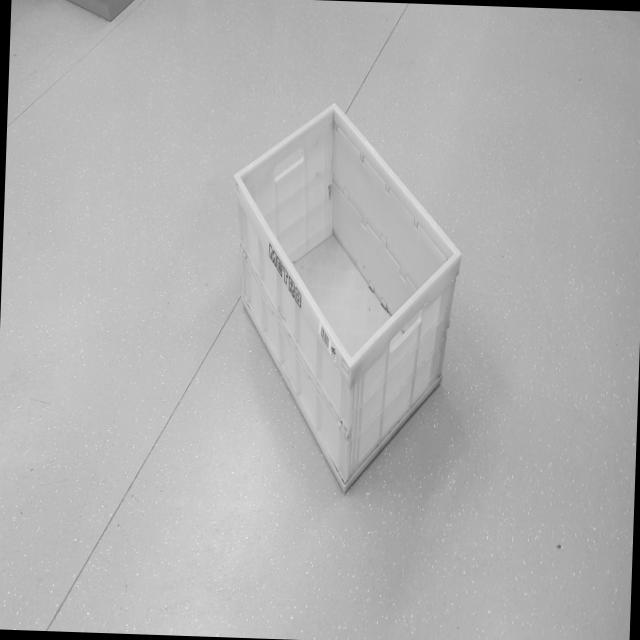box: (200, 76, 471, 530)
